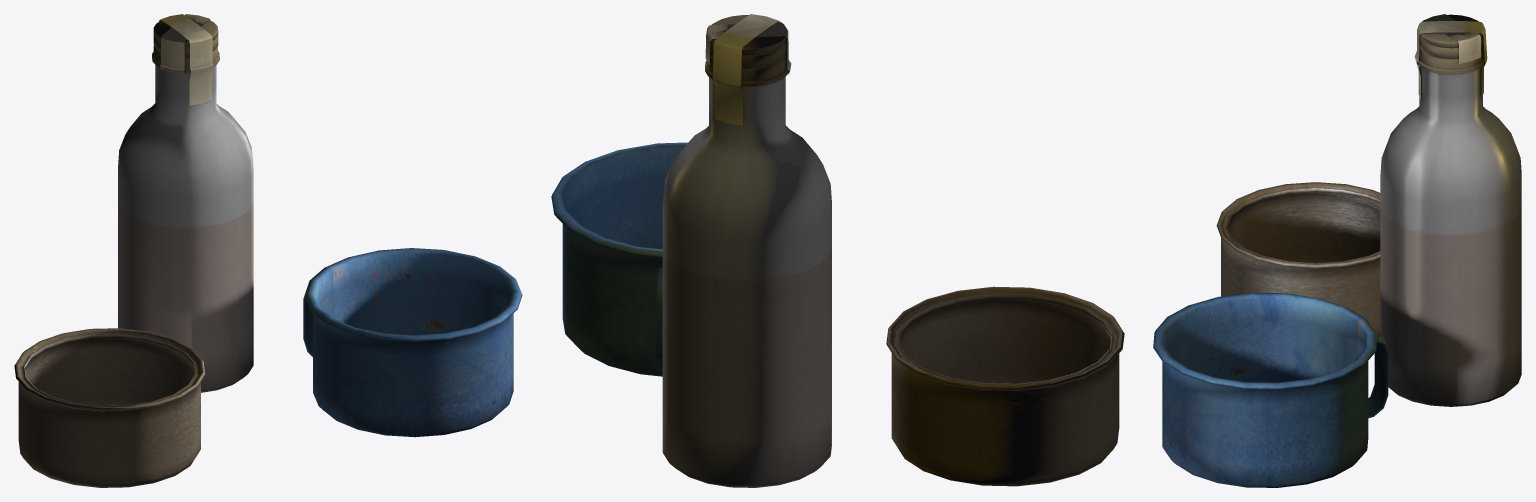
File: chicha.FBX
3 views of the same model, side by side, from view 1: azimuth 30°, elevation 25°; view 2: azimuth 150°, elevation 25°; view 3: azimuth 270°, elevation 25° (orthographic). The views are drawn at different scales.
Parts seen in each view (by area): view 1: Chicha; view 2: Chicha; view 3: Chicha.
Part boxes in pixels (<box>): Chicha: <box>14,14,522,487</box>; Chicha: <box>551,14,1124,487</box>; Chicha: <box>1153,14,1521,487</box>.
Bounding box in the file's own units: 210 × 150 × 142.
